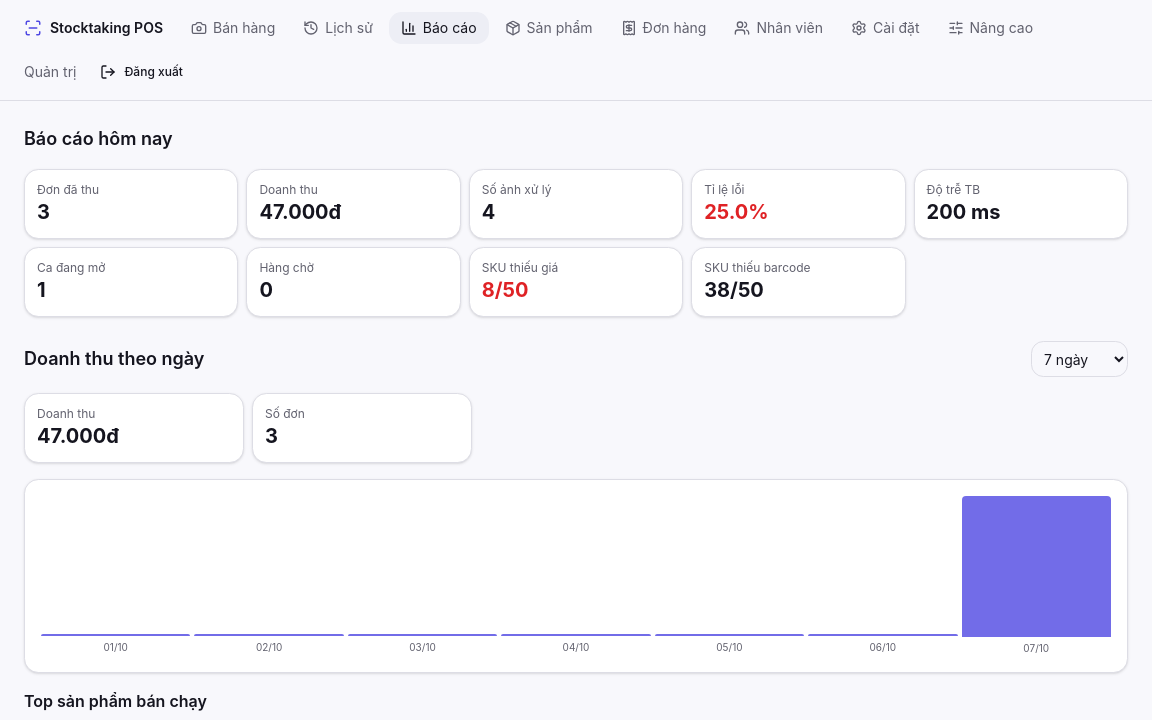
Test case: admin reports › shows today, the range, a bar per day and the best sellers
This screenshot has width=1152, height=720.
Check: the heading "Báo cáo hôm nay" is shown, box [24,128,173,149]
Check: the text "200 ms" is shown, box [927,200,1000,224]
Select "30 ngày" in the dropdown named "Khoảng báo cáo" at {"x": 1080, "y": 359}, box [1031,341,1128,377]
(page scrolled)
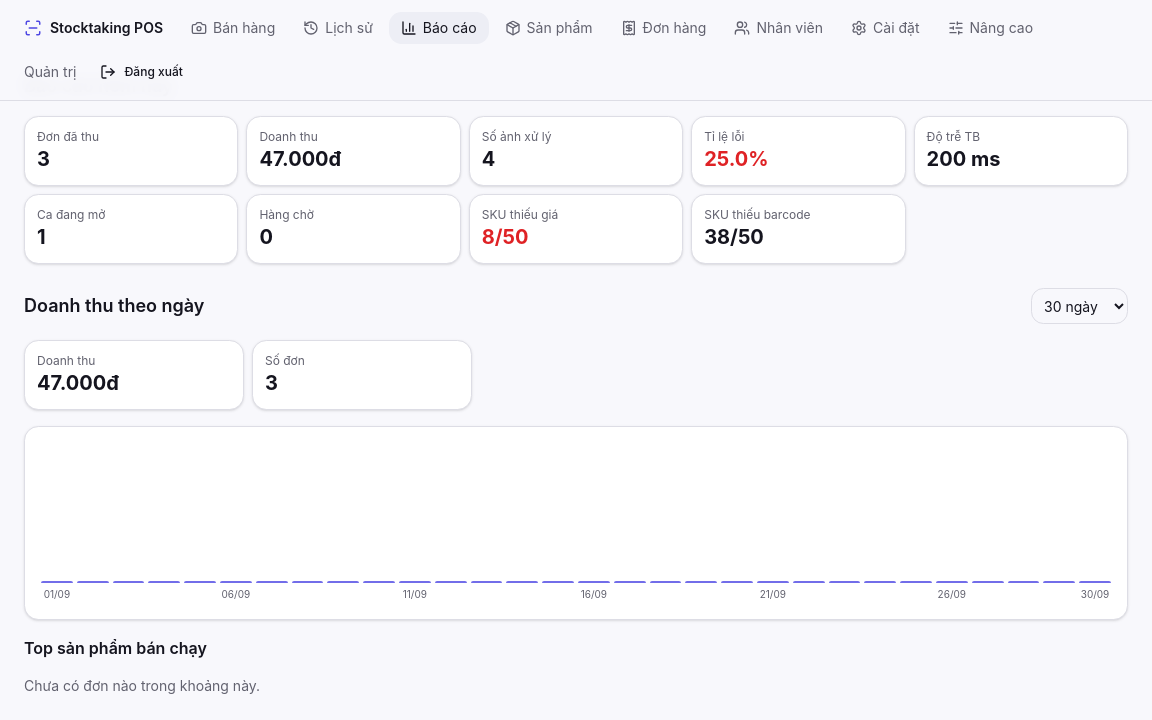
Check: the text "Chưa có đơn nào trong khoảng này." is shown, box [24,677,260,694]
Check: the number of elements with test id "day-bar" is 30
